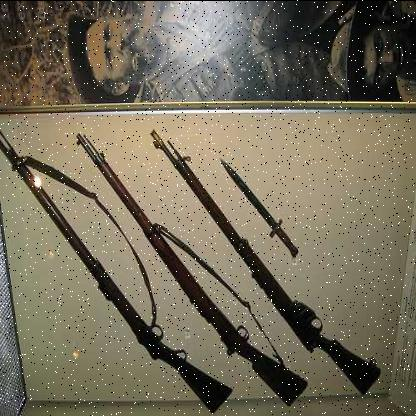rifle: (70, 117, 312, 403), (0, 116, 232, 406), (141, 123, 384, 389)
